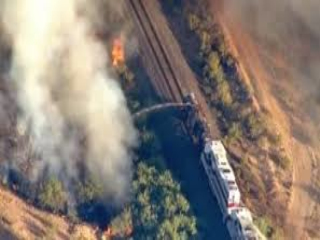fire: (111, 38, 130, 69)
smoke: (9, 7, 130, 207)
